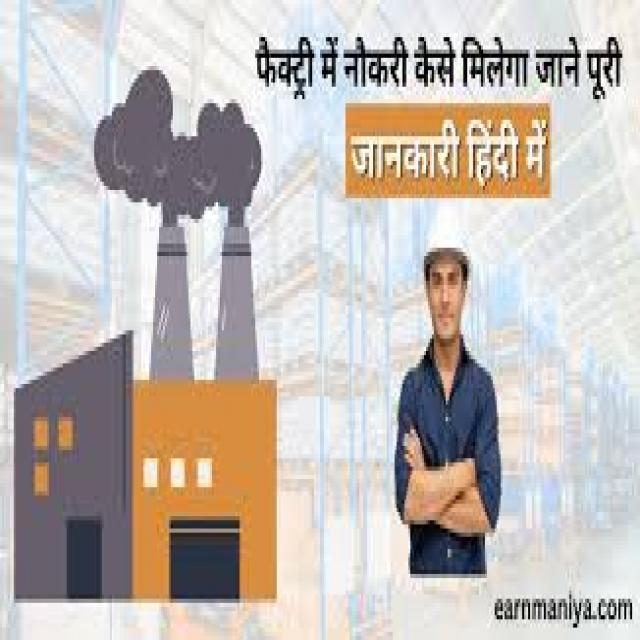Safety-Helmet: (418, 194, 475, 273)
